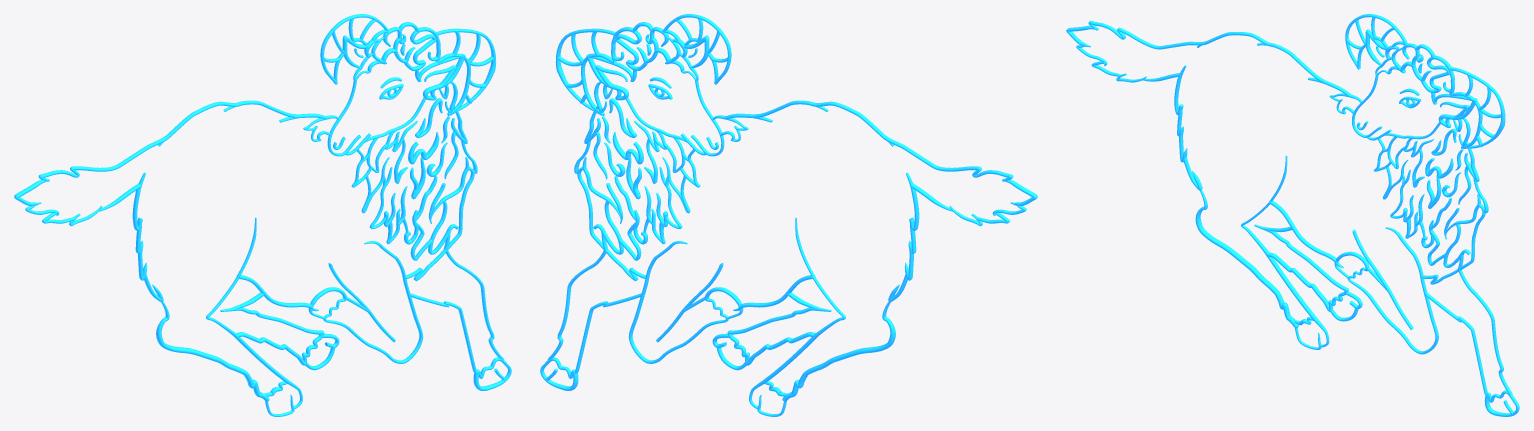
Rendered from aries-constellation-dhazele.glb.
The picture shows the model from 3 angles, left to right: view 1: azimuth 30°, elevation 25°; view 2: azimuth 150°, elevation 25°; view 3: azimuth 330°, elevation 25°; orthographic projection. The views are drawn at different scales.
Parts seen in each view (by area): view 1: BezierCurve.001; view 2: BezierCurve.001; view 3: BezierCurve.001.
Boxes of the visible parts, x1,y1,x2,y2 form: BezierCurve.001: (14, 14, 511, 416); BezierCurve.001: (540, 14, 1037, 416); BezierCurve.001: (1066, 14, 1519, 416).
Bounding box in the file's own units: 4.41 × 3.46 × 0.0549.
